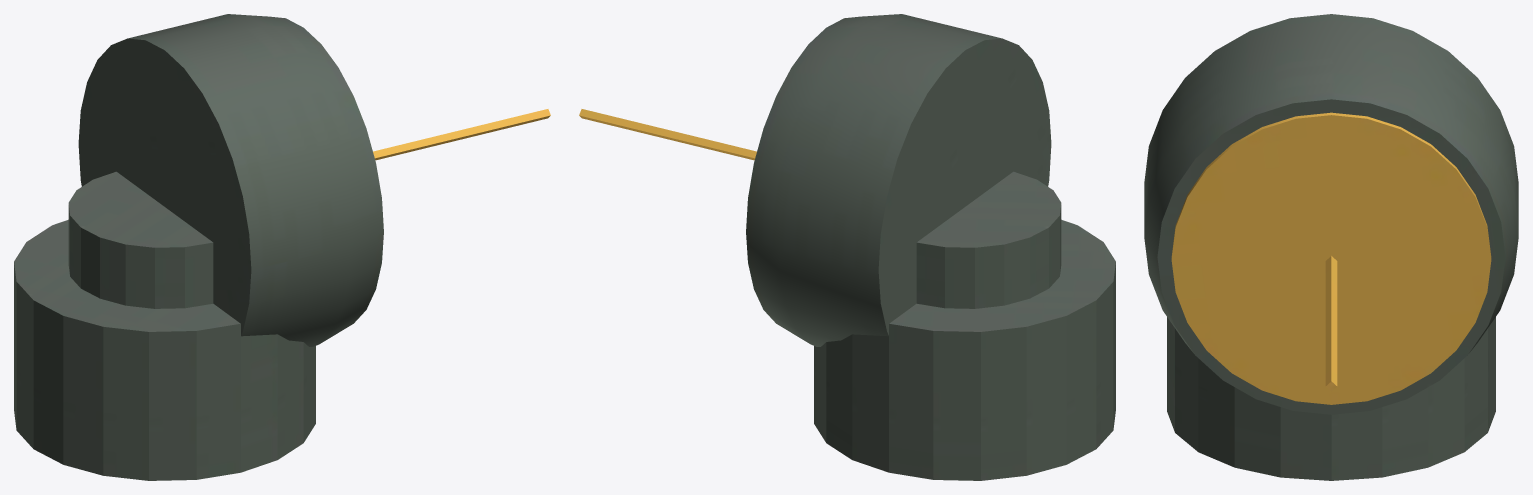
Rendered from m1942-60in-searchlight.glb.
3 renders of one model, left to right at view 1: azimuth 30°, elevation 25°; view 2: azimuth 150°, elevation 25°; view 3: azimuth 270°, elevation 25°, orthographic. The views are drawn at different scales.
Parts seen in each view (by area): view 1: Lamp, Stand, Train, BeamMarker; view 2: Lamp, Stand, Train, BeamMarker; view 3: LampFace, Lamp, Stand, BeamMarker.
Boxes of the visible parts, x1,y1,x2,y2 form: Lamp: [78, 14, 383, 346]; Stand: [14, 219, 315, 480]; Train: [68, 171, 213, 308]; BeamMarker: [373, 109, 550, 160]; Lamp: [746, 14, 1051, 346]; Stand: [814, 219, 1115, 480]; Train: [916, 171, 1061, 308]; BeamMarker: [579, 109, 756, 160]; LampFace: [1171, 112, 1491, 404]; Lamp: [1144, 14, 1518, 414]; Stand: [1167, 317, 1495, 480]; BeamMarker: [1325, 256, 1337, 391].
Size of the model in its own units: 2.82 by 1.92 by 1.64.
Materials: 1 (1 with a texture image).
